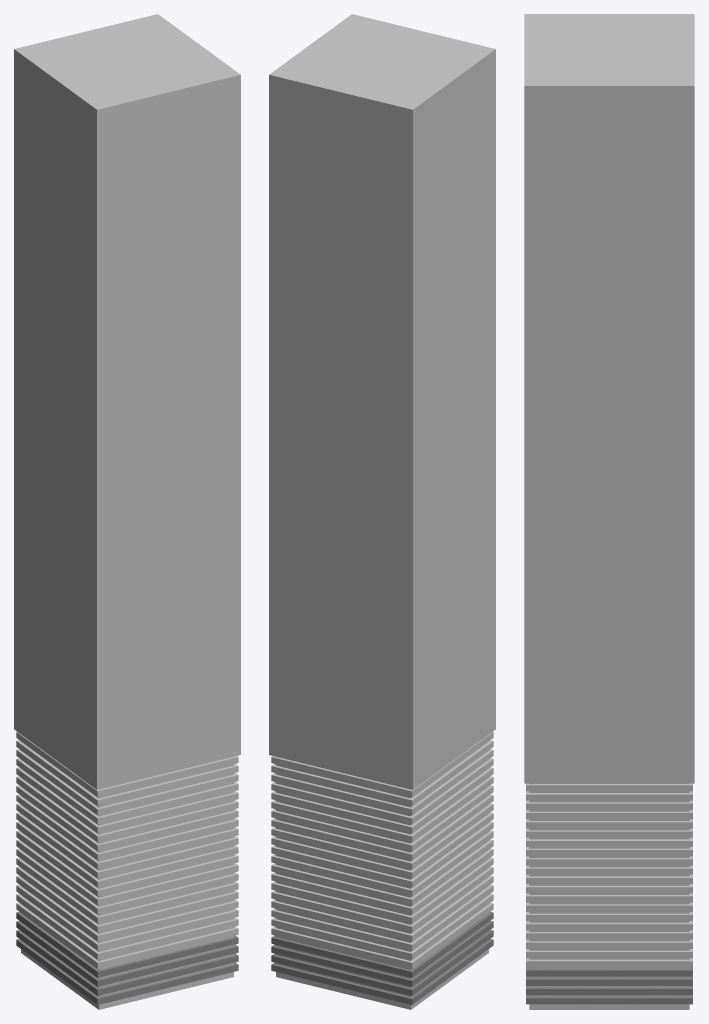
Rendered from SM_Pillar_Mall_01_Bottom_02.fbx.
3 renders of one model, left to right at view 1: azimuth 30°, elevation 25°; view 2: azimuth 150°, elevation 25°; view 3: azimuth 270°, elevation 25°, orthographic. The views are drawn at different scales.
Visible parts, largest first — view 1: SM_Pillar_Mall_01_Bottom_02_LOD0; view 2: SM_Pillar_Mall_01_Bottom_02_LOD0; view 3: SM_Pillar_Mall_01_Bottom_02_LOD0.
Part boxes in pixels (x1=…): SM_Pillar_Mall_01_Bottom_02_LOD0: x1=14, y1=14, x2=240, y2=1009; SM_Pillar_Mall_01_Bottom_02_LOD0: x1=269, y1=14, x2=495, y2=1009; SM_Pillar_Mall_01_Bottom_02_LOD0: x1=524, y1=14, x2=694, y2=1009.
Size of the model in its own units: 100 by 100 by 600.
